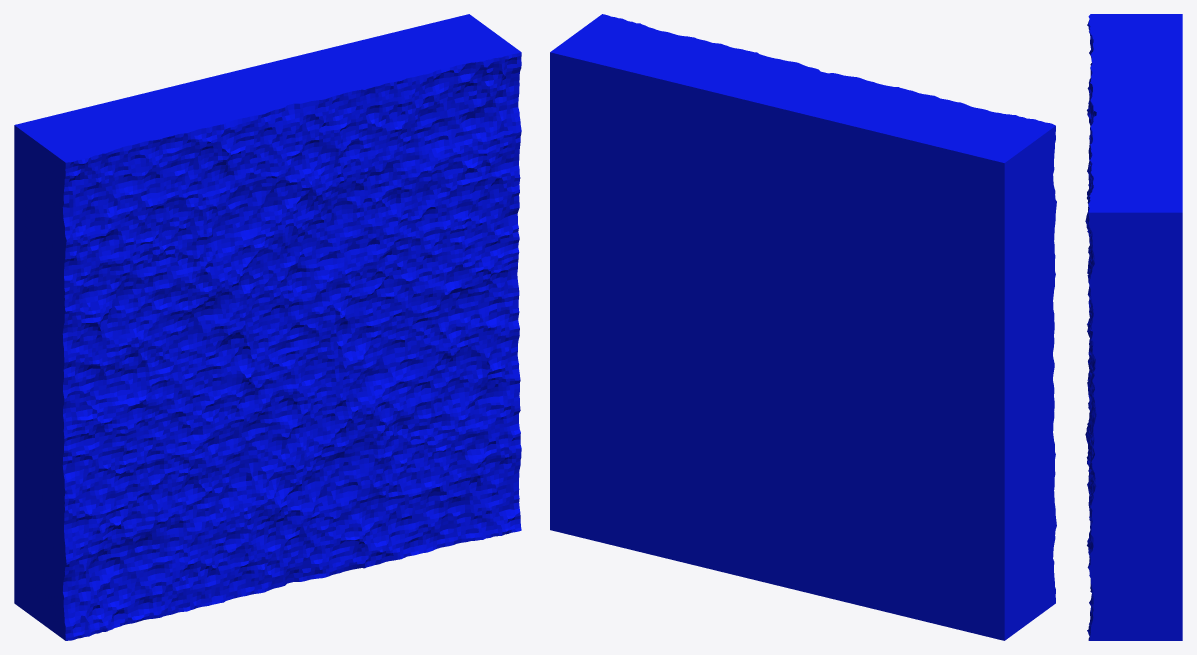
Rendered from ocean.glb.
The picture shows the model from 3 angles, left to right: view 1: azimuth 30°, elevation 25°; view 2: azimuth 150°, elevation 25°; view 3: azimuth 270°, elevation 25°; orthographic projection. The views are drawn at different scales.
Visible parts, largest first — view 1: Grid; view 2: Grid; view 3: Grid.
Part boxes in pixels (<box>): Grid: <box>14,14,521,640</box>; Grid: <box>550,14,1056,640</box>; Grid: <box>1085,14,1182,640</box>.
Bounding box in the file's own units: 329 × 330 × 67.91.
